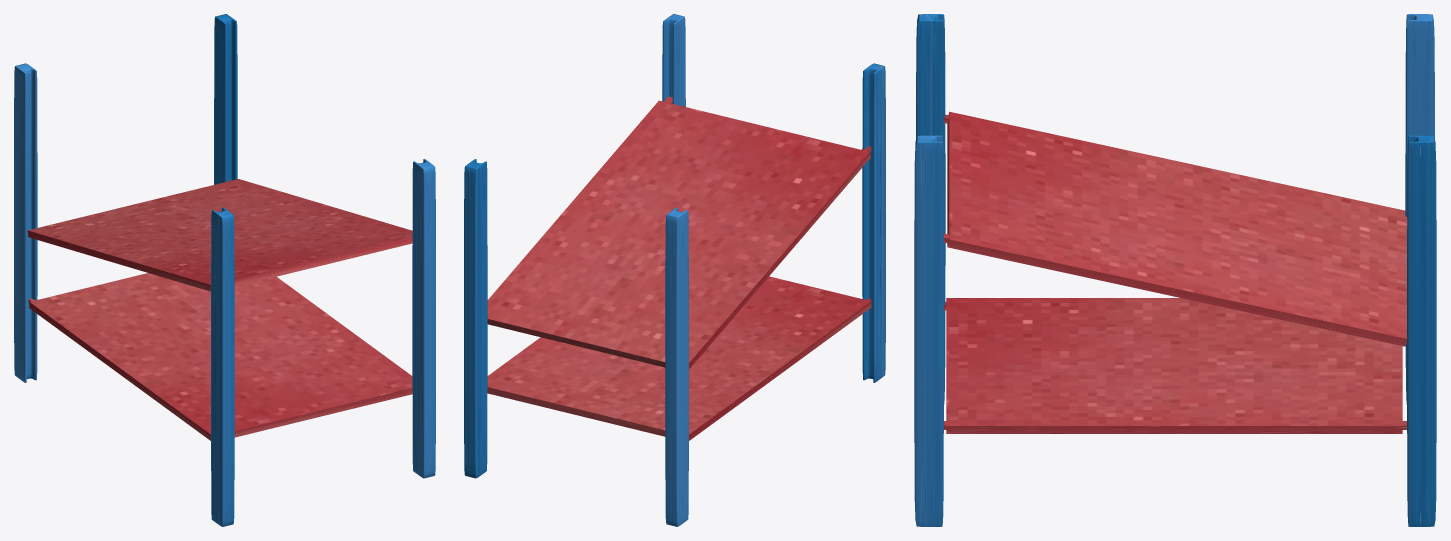
Rendered from ShelfAngledDown.fbx.
The picture shows the model from 3 angles, left to right: view 1: azimuth 30°, elevation 25°; view 2: azimuth 150°, elevation 25°; view 3: azimuth 270°, elevation 25°; orthographic projection. The views are drawn at different scales.
Visible parts, largest first — view 1: pasted__pCube5, pasted__pCube6, pCube7, pCube1, pCube8, pCube9; view 2: pasted__pCube6, pasted__pCube5, pCube8, pCube9, pCube7, pCube1; view 3: pasted__pCube6, pasted__pCube5, pCube1, pCube9, pCube7, pCube8.
Boxes of the visible parts, x1,y1,x2,y2 form: pasted__pCube5: (28,273,412,440); pasted__pCube6: (27,179,412,291); pCube7: (211,207,234,526); pCube1: (412,159,435,478); pCube8: (14,63,37,382); pCube9: (214,14,237,184); pasted__pCube6: (487,96,871,369); pasted__pCube5: (487,276,871,440); pCube8: (665,207,688,526); pCube9: (464,159,487,478); pCube7: (862,63,885,382); pCube1: (662,14,685,106); pasted__pCube6: (943,111,1407,346); pasted__pCube5: (944,298,1406,433); pCube1: (914,135,943,526); pCube9: (1407,135,1436,526); pCube7: (916,14,945,403); pCube8: (1405,14,1434,403).
Size of the model in its own units: 6.09 by 8.41 by 10.34.
Materials: 2 (2 with a texture image).
